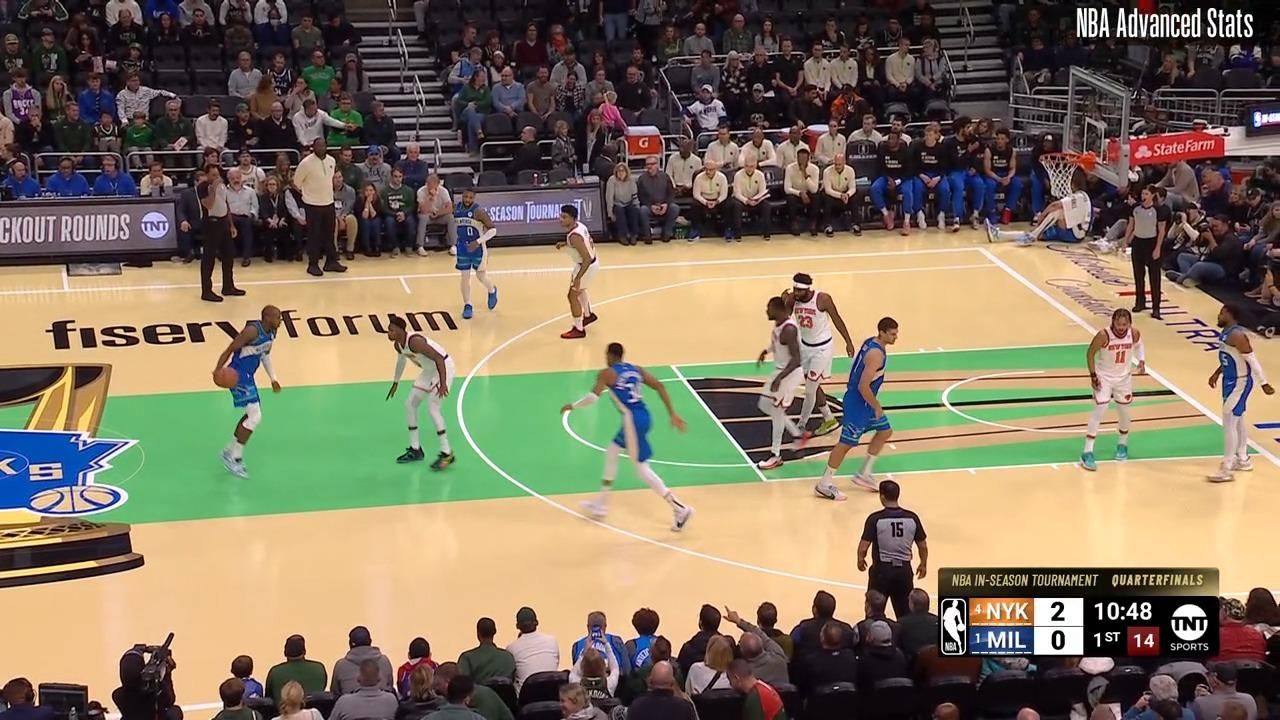Backboard: (1061, 72, 1143, 175)
Ball: (215, 367, 238, 387)
Basket: (1041, 148, 1088, 196)
Person: (574, 339, 714, 533), (808, 306, 906, 500), (209, 296, 281, 472), (781, 269, 850, 444), (1085, 297, 1150, 465), (382, 306, 450, 464), (758, 296, 818, 466), (1213, 302, 1264, 486), (442, 181, 505, 326), (552, 198, 609, 344)
Referee: (863, 476, 930, 633), (198, 164, 250, 299), (1126, 187, 1172, 317)
